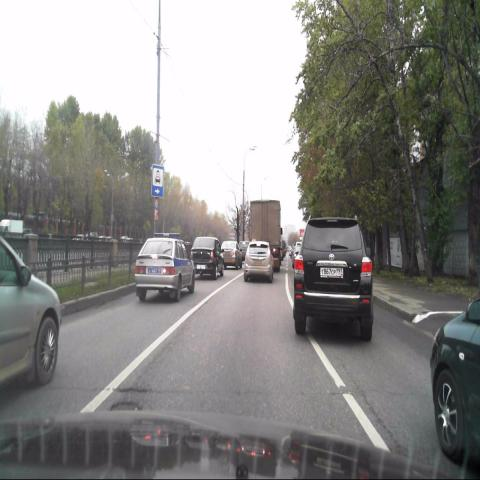7_5: (152, 164, 164, 197)
